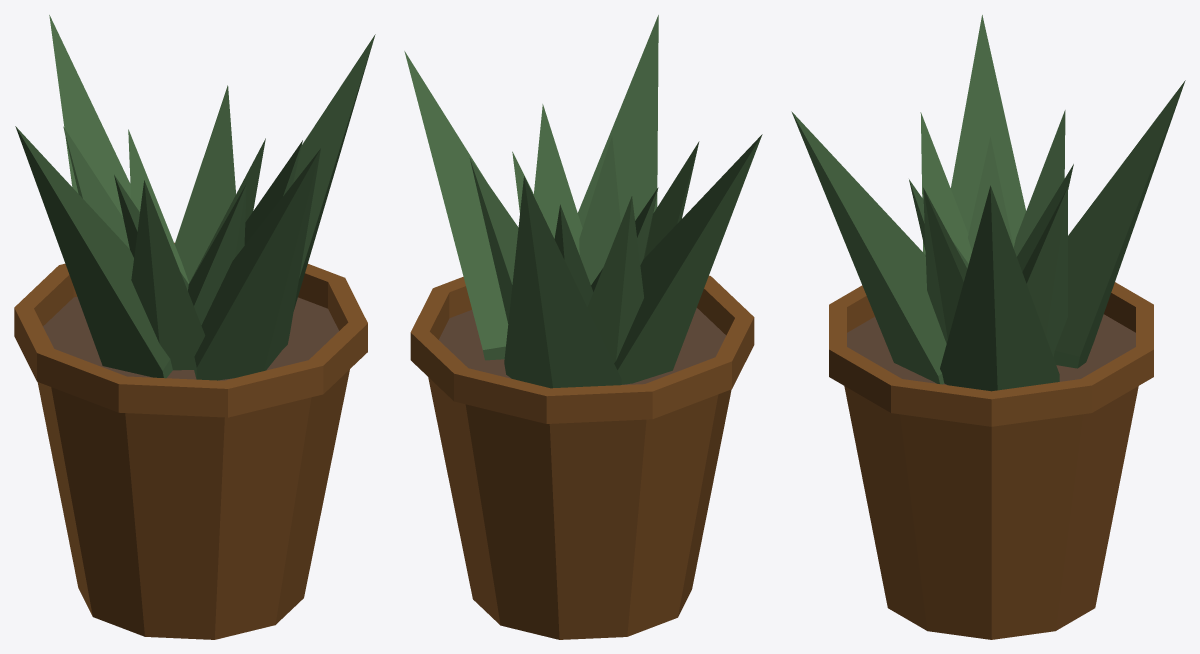
File: SM_FlowerPot_Succulent.fbx
3 views of the same model, side by side, from view 1: azimuth 30°, elevation 25°; view 2: azimuth 150°, elevation 25°; view 3: azimuth 270°, elevation 25° (orthographic). The views are drawn at different scales.
Visible parts, largest first — view 1: pCylinder1; view 2: pCylinder1; view 3: pCylinder1.
Boxes of the visible parts, x1=… form: pCylinder1: x1=14, y1=15, x2=375, y2=639; pCylinder1: x1=404, y1=15, x2=762, y2=639; pCylinder1: x1=791, y1=15, x2=1185, y2=639.
Size of the model in its own units: 4 by 5.39 by 3.89.
